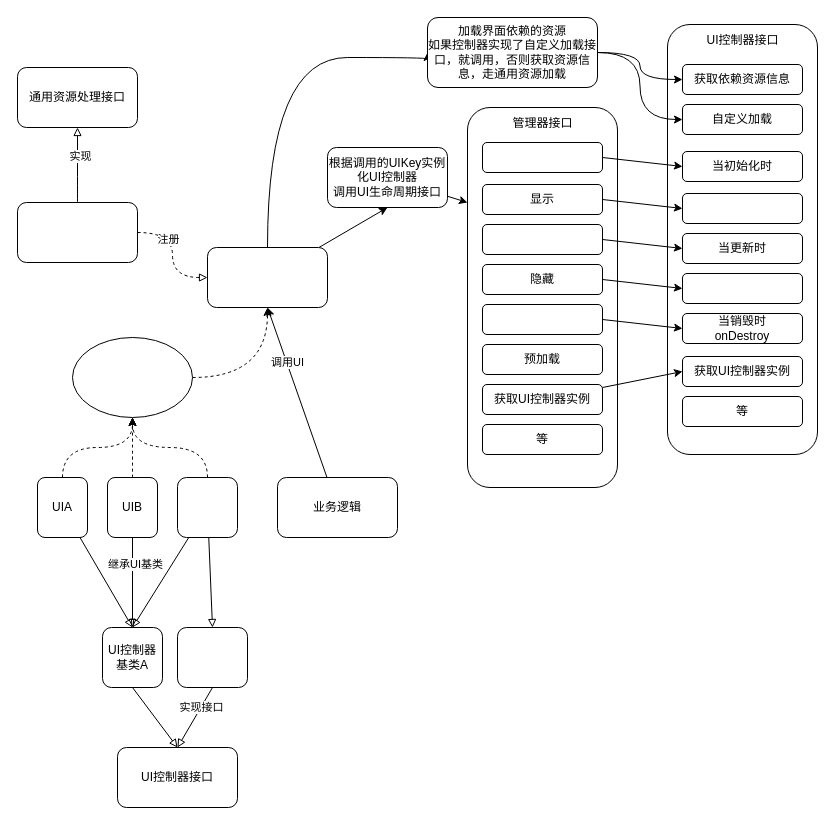
This 835x825 diagram has some shape labels left out. The shapes that lost their labels are listed below. From the top down, each one's centre as x and y in pixels, then its label:
point 542,157: 初始化
point 742,208: 当显示时
point 77,232: 通用资源处理
point 542,239: 更新
point 267,277: 管理器
point 742,288: 当隐藏时
point 542,319: 销毁
point 132,377: 注册UI
point 207,507: UI...
point 212,657: UI控制器 基类...
